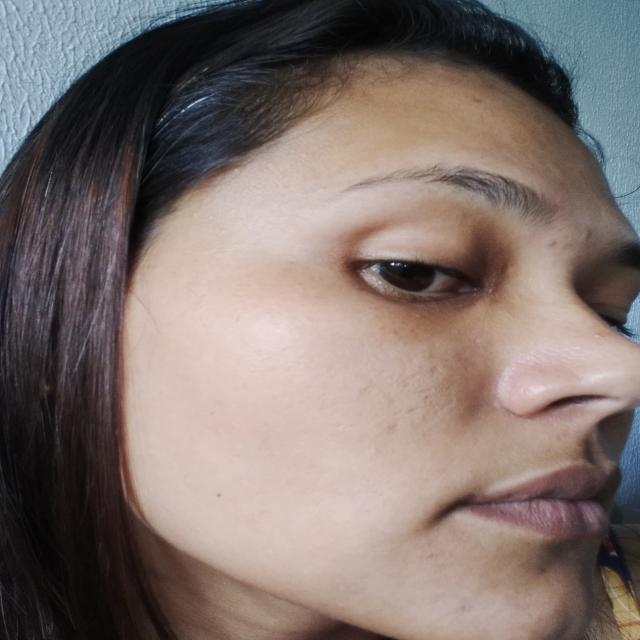Acne: (450, 599, 474, 616), (465, 92, 489, 108), (528, 563, 552, 579), (546, 197, 564, 218), (578, 226, 596, 244), (418, 551, 439, 563), (587, 329, 606, 342), (546, 236, 558, 249)
Englarged-Pores: (352, 358, 462, 439)
